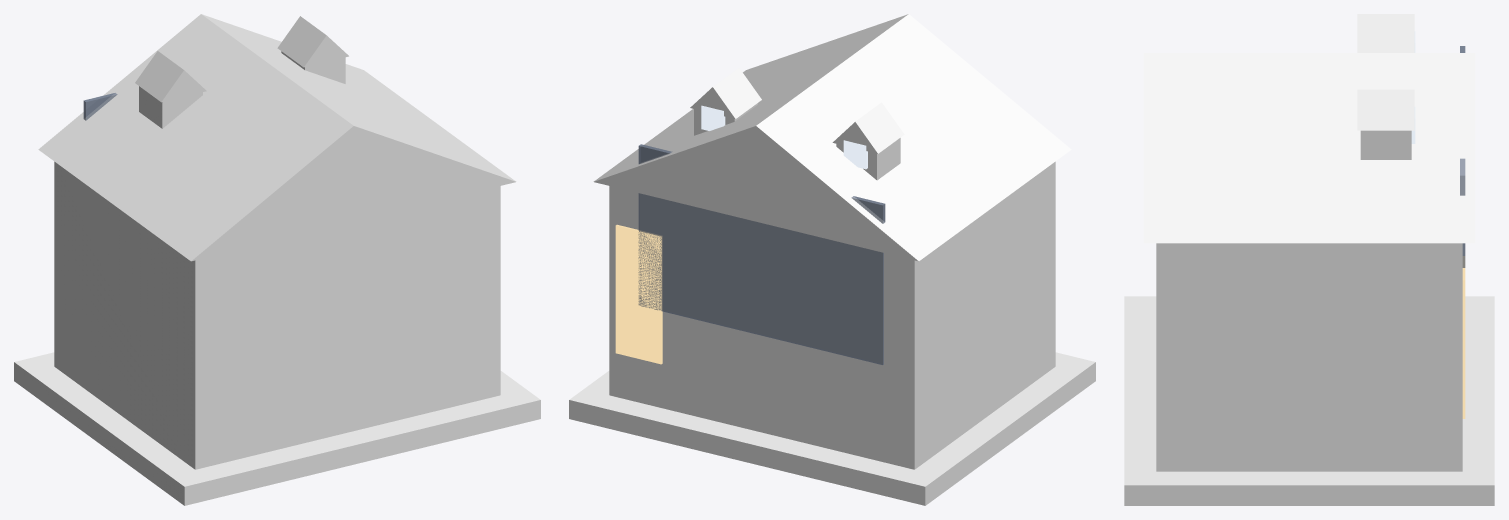
The model's file is SA-001_Architect_Building.glb.
The picture shows the model from 3 angles, left to right: view 1: azimuth 30°, elevation 25°; view 2: azimuth 150°, elevation 25°; view 3: azimuth 270°, elevation 25°; orthographic projection. The views are drawn at different scales.
Parts seen in each view (by area): view 1: Architect_Body, Architect_Roof, Building_Plinth.006, Dormer_Roof_1, Dormer_Roof_0, Dormer_Body_0, Dormer_Body_1; view 2: Architect_Body, Architect_Roof, Studio_Windows, Building_Plinth.006, Architect_Door, Dormer_Roof_1, Dormer_Roof_0, Dormer_Body_0; view 3: Architect_Body, Architect_Roof, Building_Plinth.006, Dormer_Roof_1, Dormer_Roof_0, Dormer_Body_1, Architect_Door.
Part boxes in pixels (box(x1,y1,x2,y2)): Architect_Body: box(54, 161, 500, 469); Architect_Roof: box(38, 14, 516, 261); Building_Plinth.006: box(14, 352, 540, 505); Dormer_Roof_1: box(277, 16, 348, 67); Dormer_Roof_0: box(135, 51, 206, 102); Dormer_Body_0: box(139, 86, 202, 128); Dormer_Body_1: box(281, 51, 345, 83); Architect_Body: box(609, 161, 1055, 469); Architect_Roof: box(593, 14, 1071, 261); Studio_Windows: box(638, 144, 885, 364); Building_Plinth.006: box(569, 352, 1095, 505); Architect_Door: box(615, 224, 662, 364); Dormer_Roof_1: box(690, 68, 761, 118); Dormer_Roof_0: box(832, 102, 904, 153); Dormer_Body_0: box(836, 138, 900, 180); Architect_Body: box(1156, 243, 1462, 471); Architect_Roof: box(1143, 53, 1475, 243); Building_Plinth.006: box(1124, 296, 1494, 505); Dormer_Roof_1: box(1357, 89, 1414, 130); Dormer_Roof_0: box(1357, 14, 1414, 52); Dormer_Body_1: box(1360, 130, 1411, 159); Architect_Door: box(1462, 256, 1465, 418).
Bounding box in the file's own units: 3.5 × 3.14 × 2.9.
